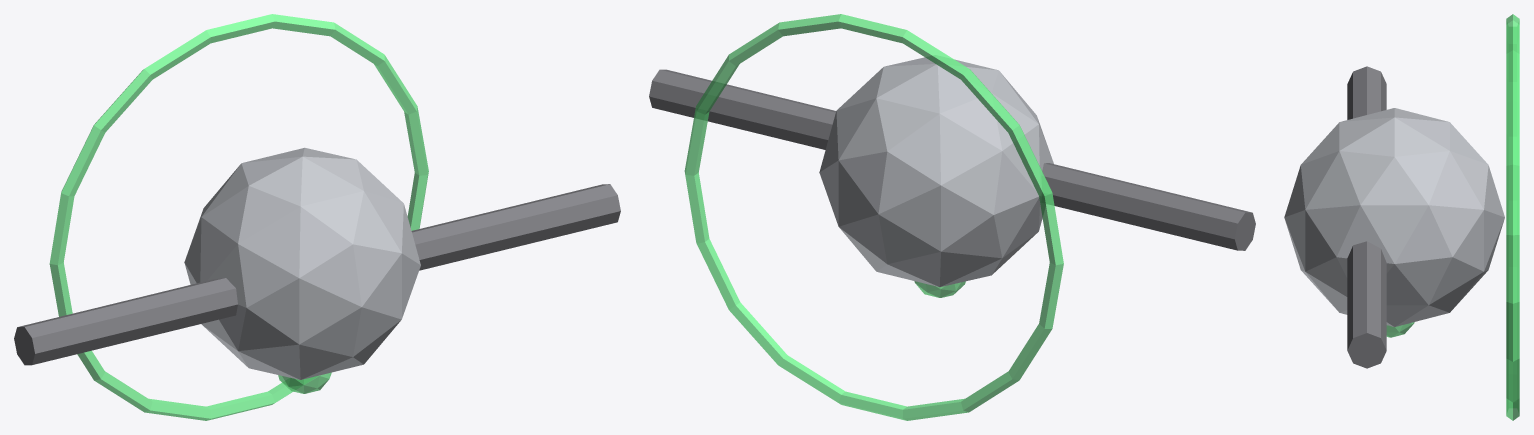
The model's file is repair_bot_cradle.glb.
3 views of the same model, side by side, from view 1: azimuth 30°, elevation 25°; view 2: azimuth 150°, elevation 25°; view 3: azimuth 270°, elevation 25° (orthographic). The views are drawn at different scales.
Visible parts, largest first — view 1: drone_body, hover_ring, rotor_l, rotor_r, eye; view 2: drone_body, hover_ring, rotor_l, rotor_r; view 3: drone_body, hover_ring, rotor_r, rotor_l, eye.
Boxes of the visible parts, left/top/right/bottom form: drone_body: left=184, top=147, right=420, bottom=379; hover_ring: left=49, top=14, right=428, bottom=420; rotor_l: left=14, top=278, right=237, bottom=365; rotor_r: left=411, top=184, right=620, bottom=270; eye: left=278, top=372, right=331, bottom=393; drone_body: left=819, top=55, right=1053, bottom=287; hover_ring: left=684, top=14, right=1063, bottom=420; rotor_l: left=1042, top=163, right=1255, bottom=250; rotor_r: left=649, top=69, right=836, bottom=149; drone_body: left=1284, top=108, right=1504, bottom=326; hover_ring: left=1506, top=14, right=1519, bottom=420; rotor_r: left=1347, top=241, right=1386, bottom=368; rotor_l: left=1347, top=66, right=1386, bottom=119; eye: left=1386, top=322, right=1414, bottom=337.
Bounding box in the file's own units: 1.6 × 1.02 × 0.5971.
